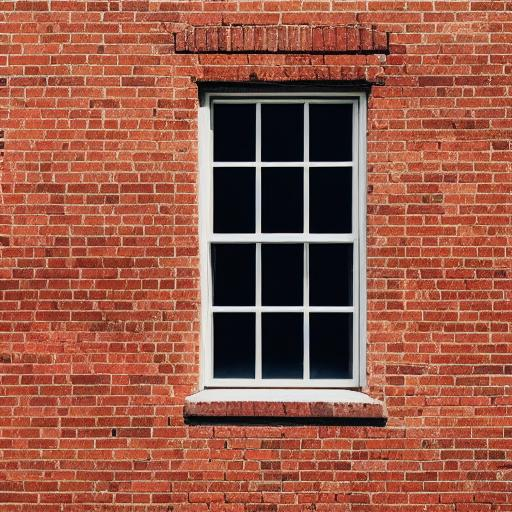Window: (179, 28, 392, 428)
